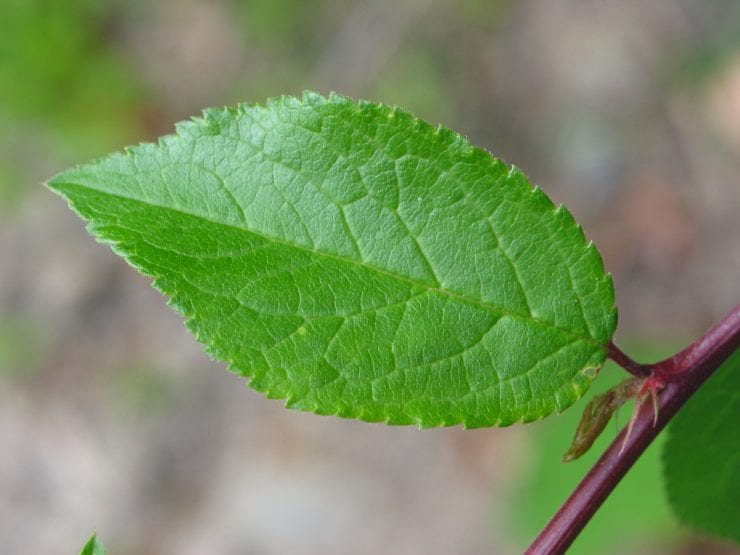healthy: (92, 89, 623, 464)
